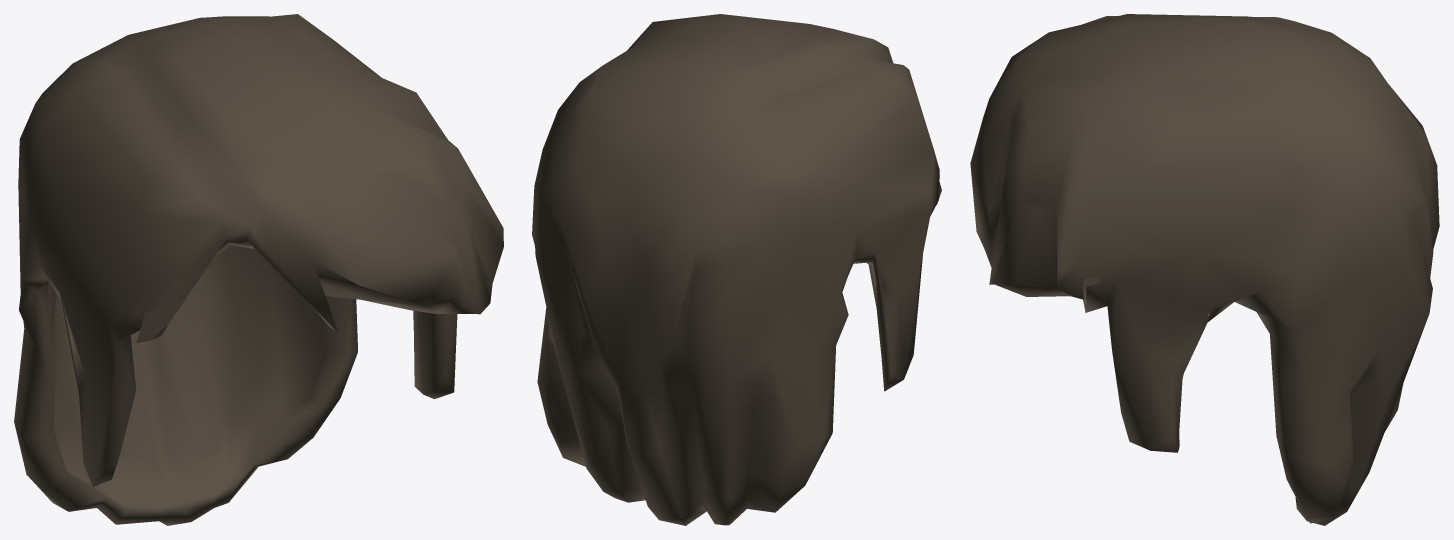
Rendered from JerricksHair.fbx.
The picture shows the model from 3 angles, left to right: view 1: azimuth 30°, elevation 25°; view 2: azimuth 150°, elevation 25°; view 3: azimuth 270°, elevation 25°; orthographic projection. The views are drawn at different scales.
Visible parts, largest first — view 1: Jerrick; view 2: Jerrick; view 3: Jerrick.
Boxes of the visible parts, x1,y1,x2,y2 form: Jerrick: (14, 14, 503, 525); Jerrick: (532, 14, 941, 525); Jerrick: (970, 14, 1439, 525).
Bounding box in the file's own units: 149 × 201 × 178.
